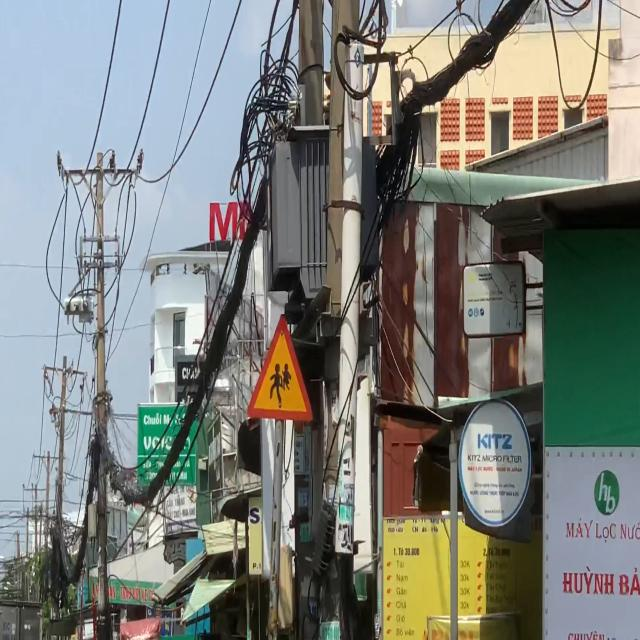Nguy hiem: (248, 314, 313, 422)
